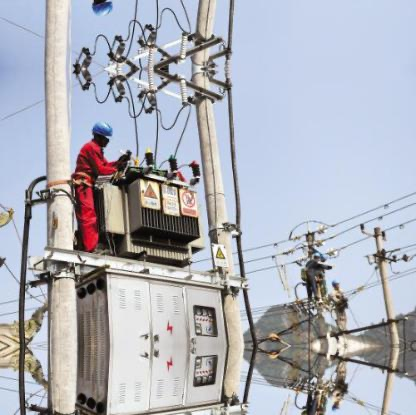Safety Helmet: (85, 113, 116, 154)
